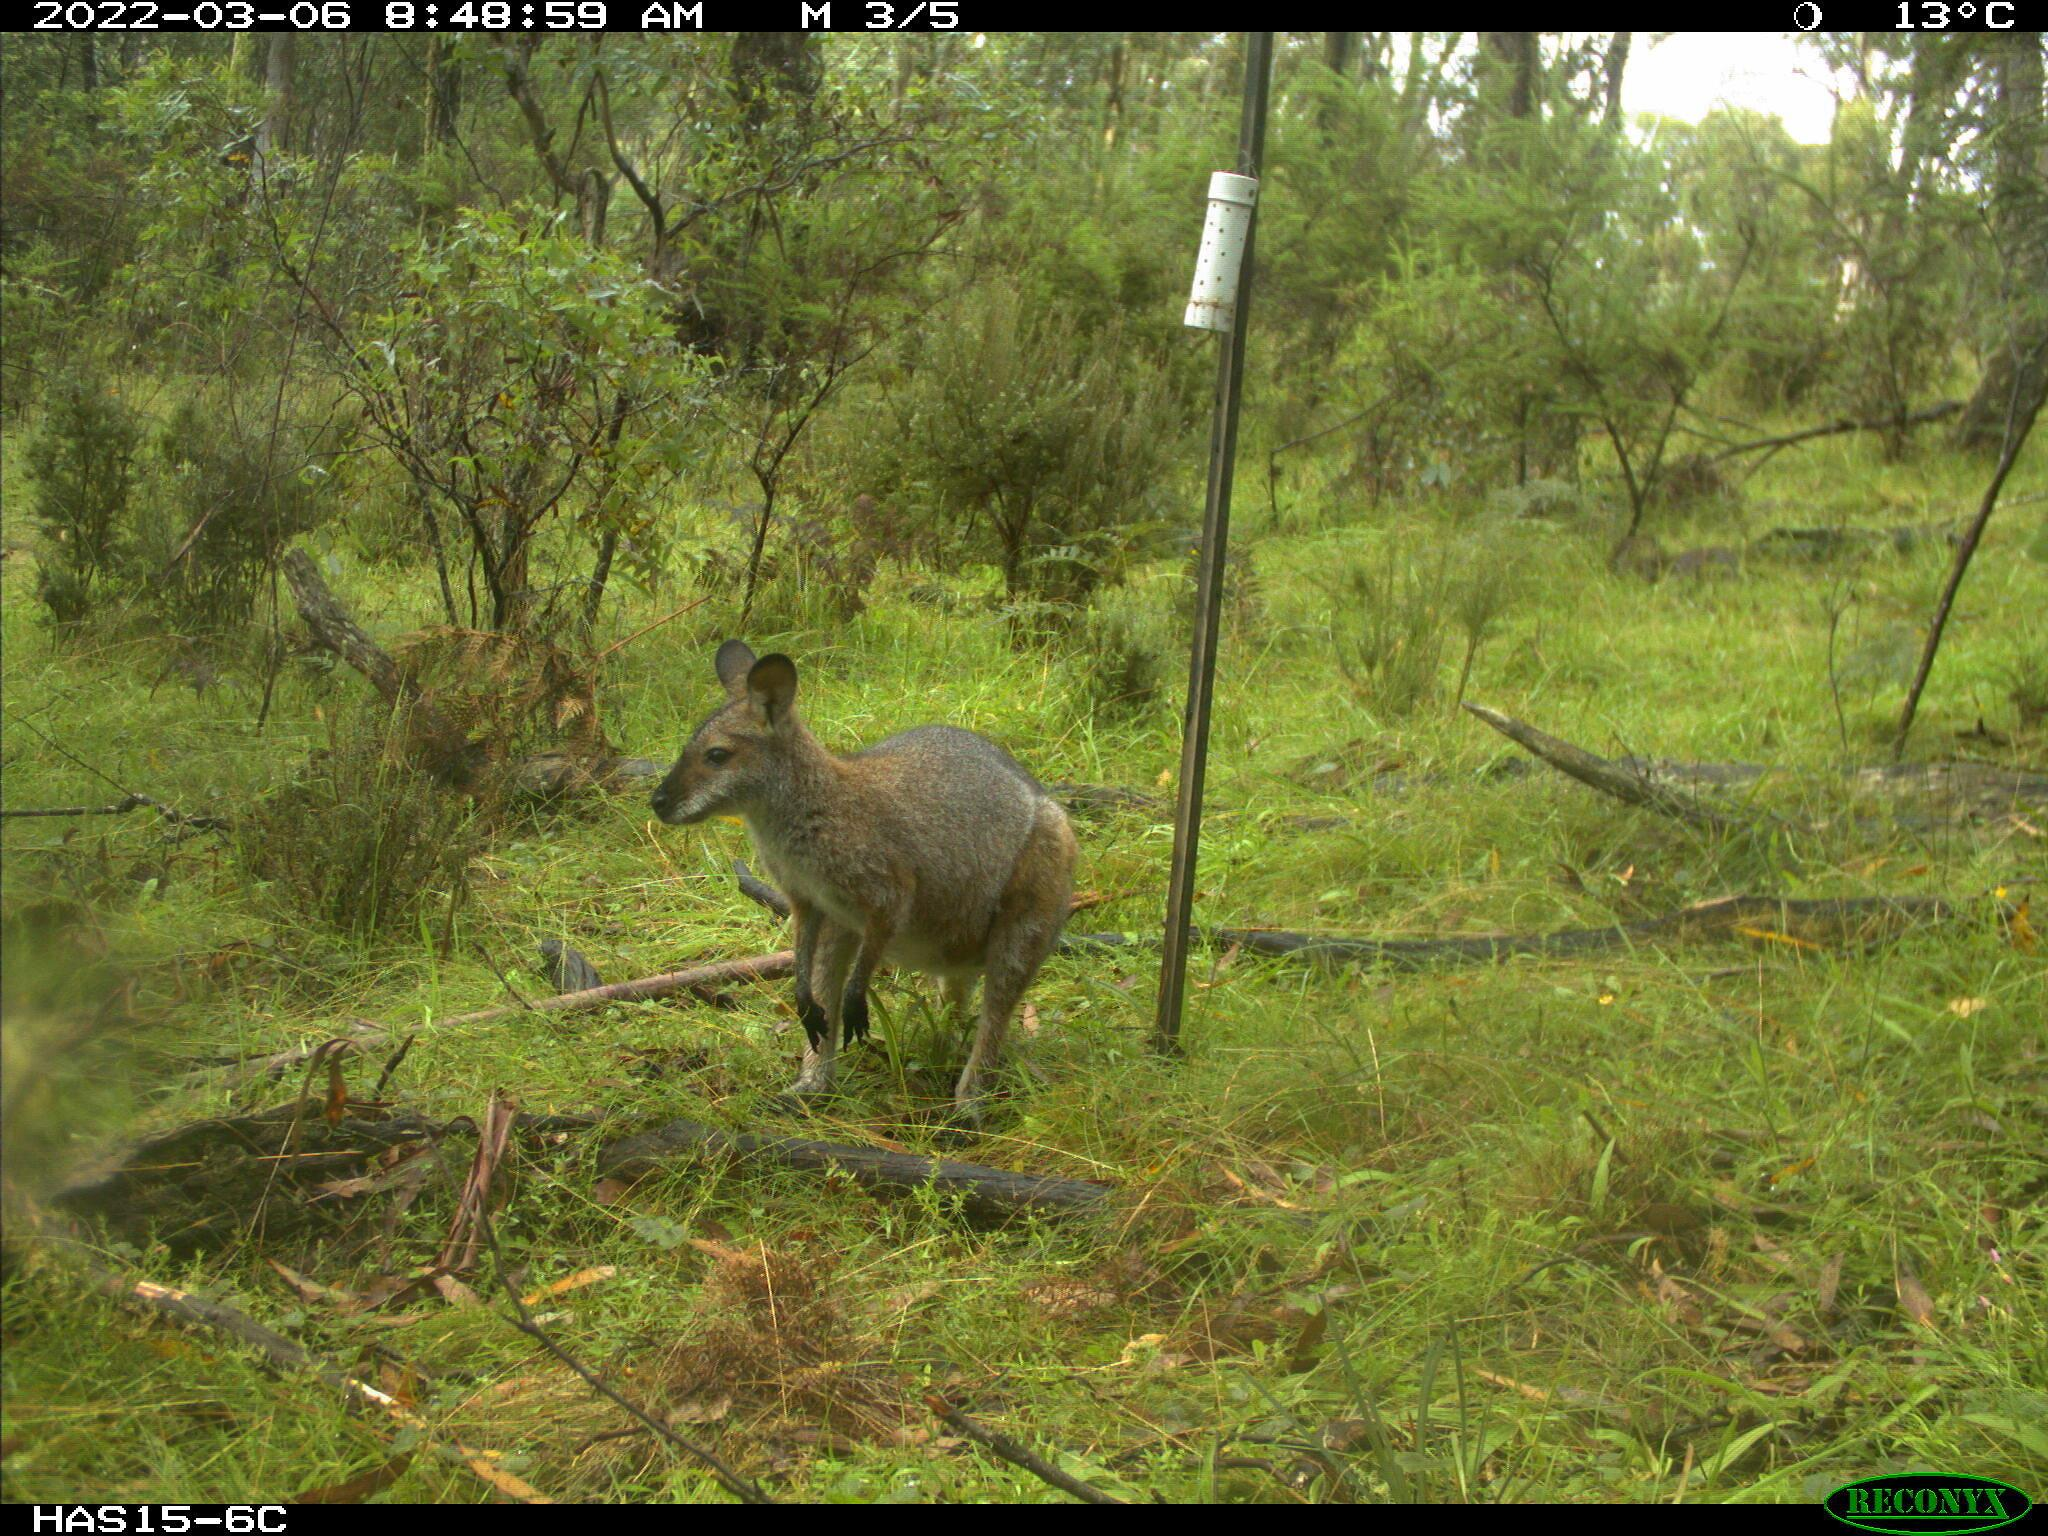Red-necked wallaby: (647, 653, 1087, 1133)
